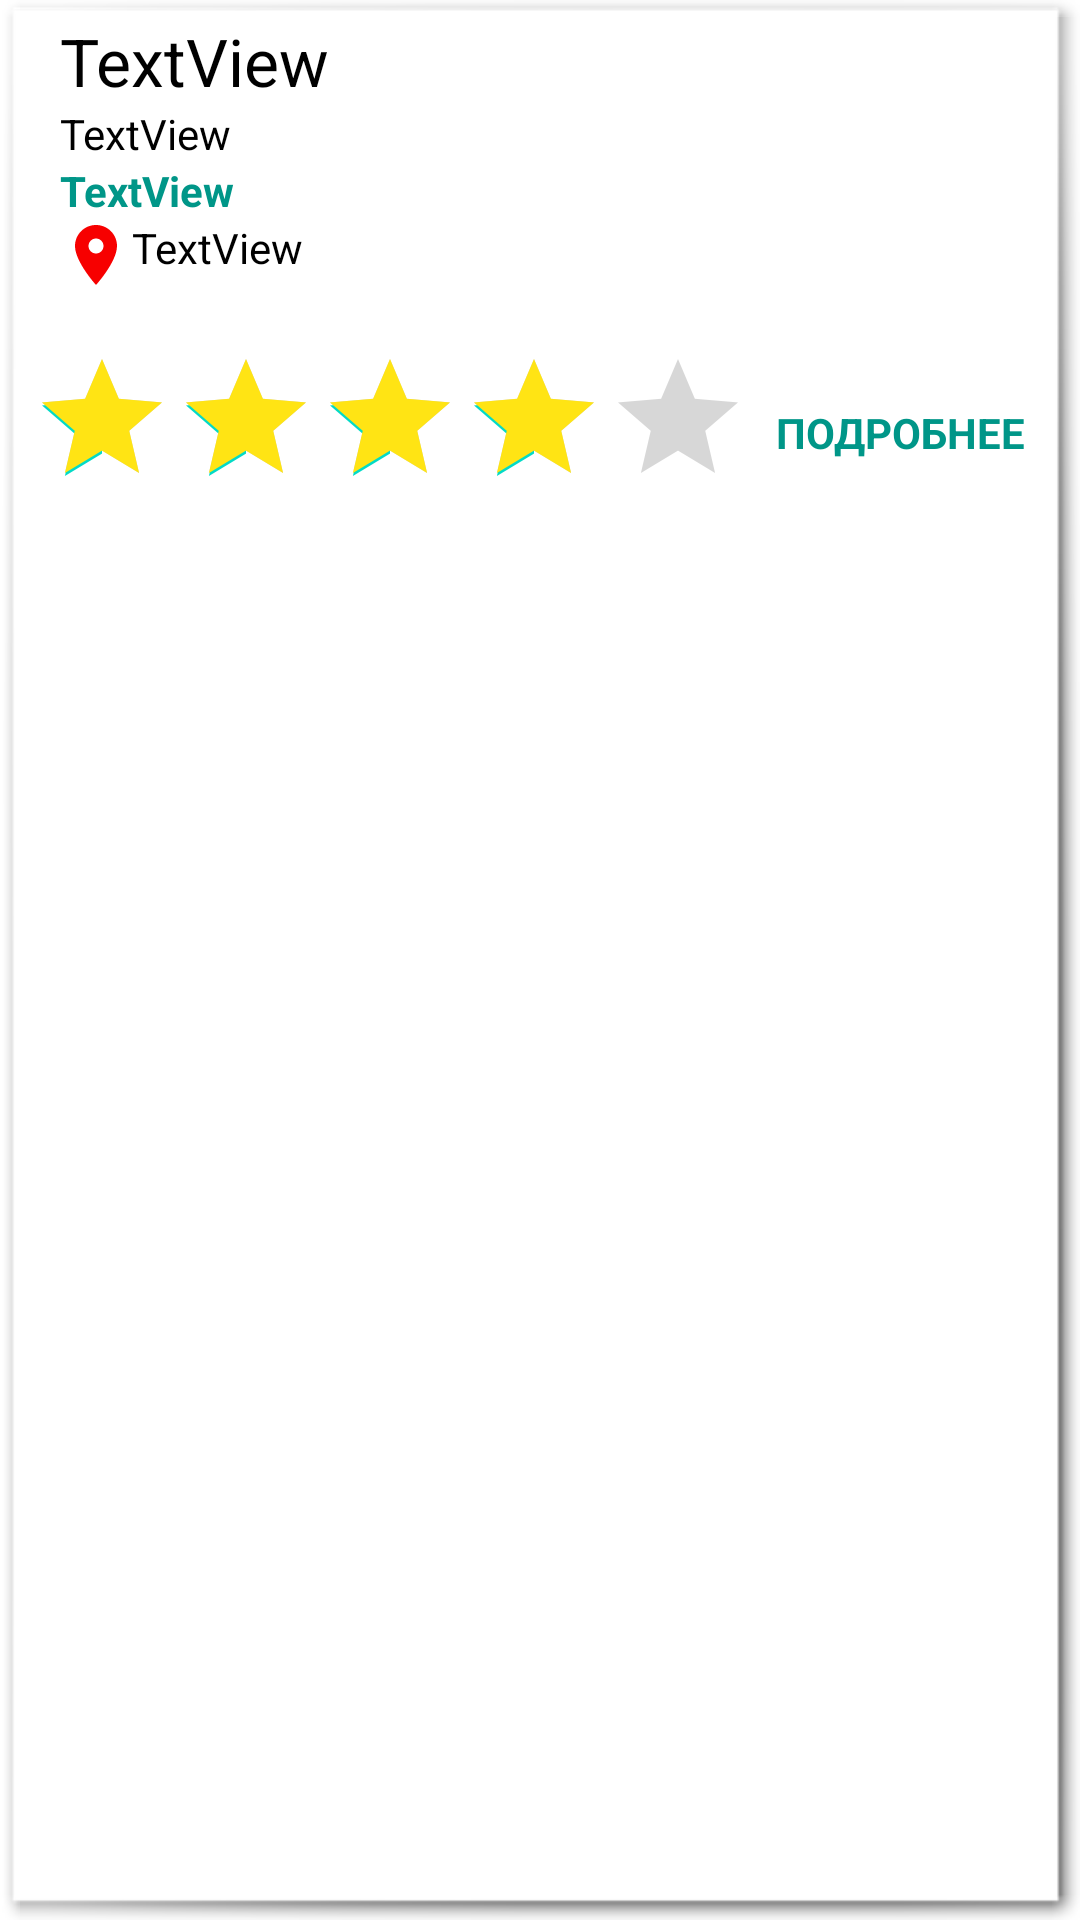

Point at icon controls on the screen. Image size 1080w x 1920h, points as (x=x, y=y).
location on: (x=96, y=255)
